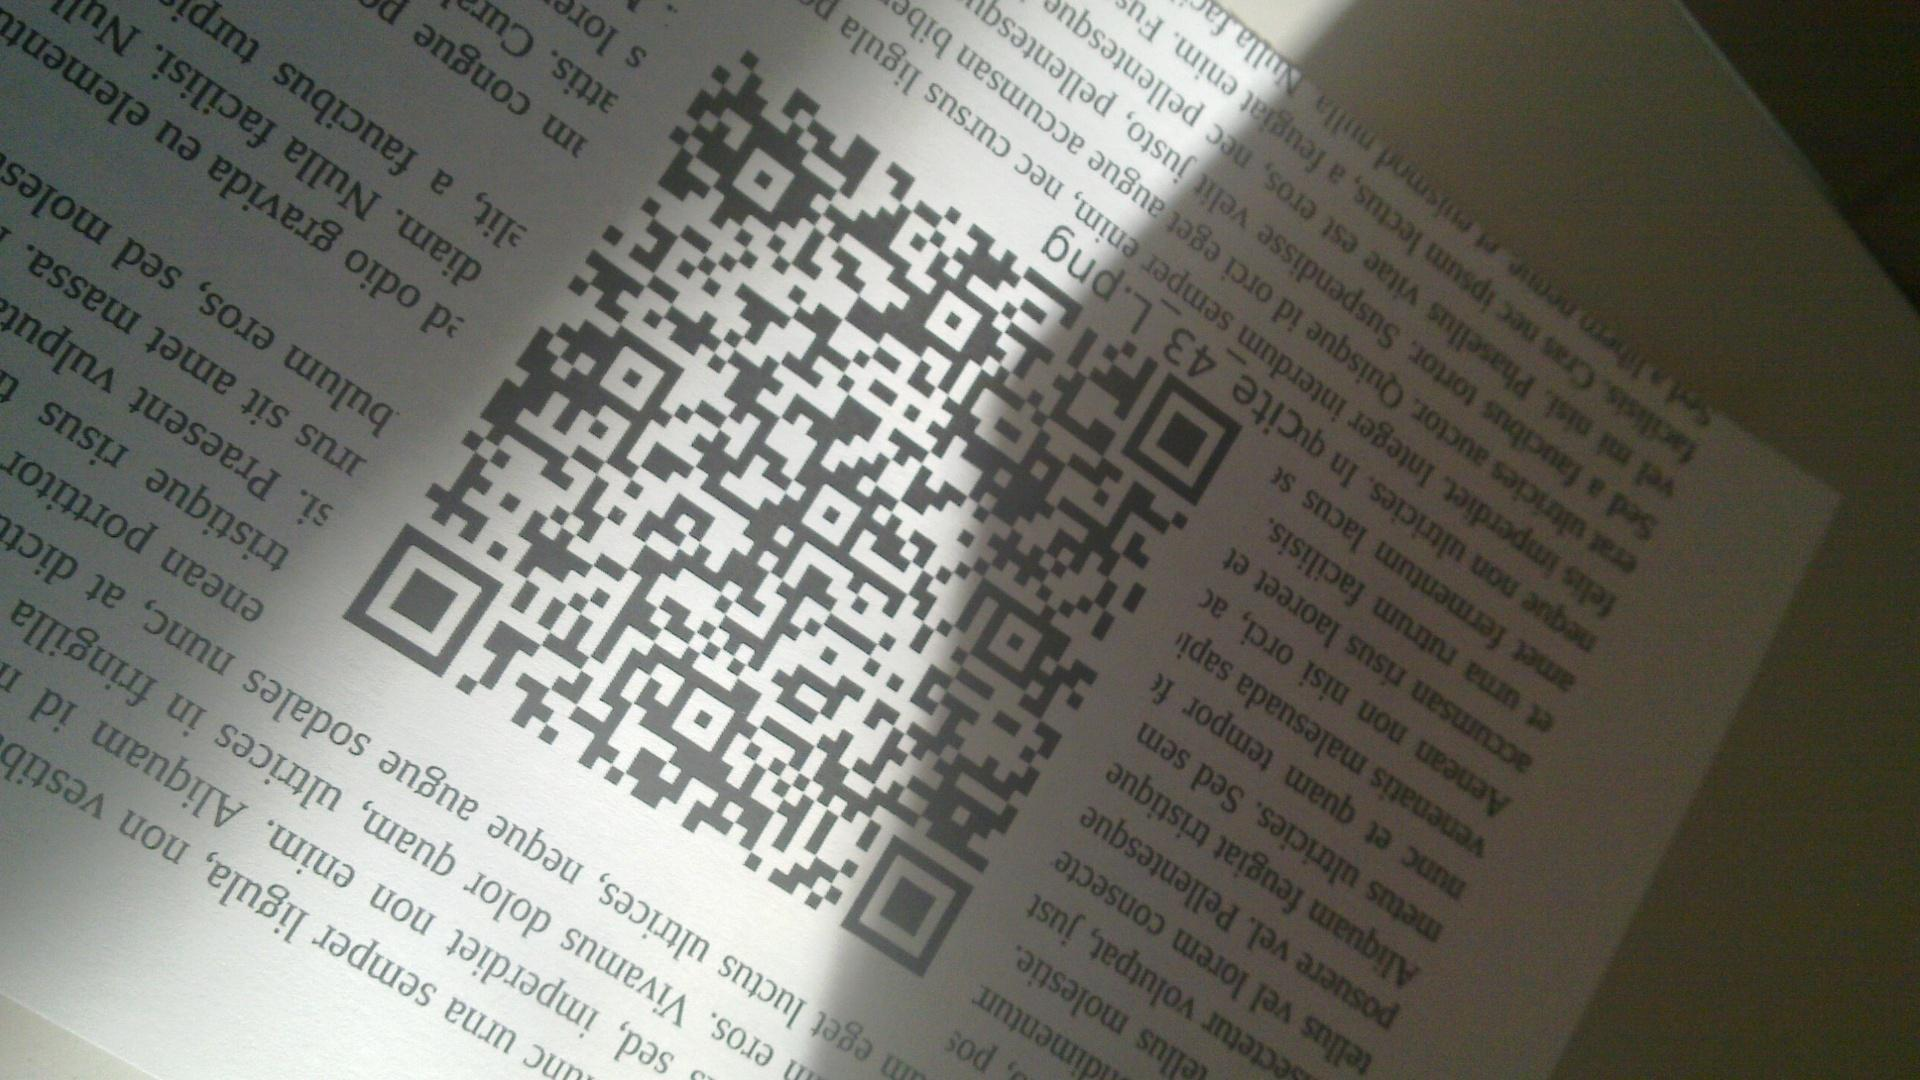Finder pattern: (348, 524, 504, 679), (1125, 364, 1249, 509), (844, 837, 971, 971)
